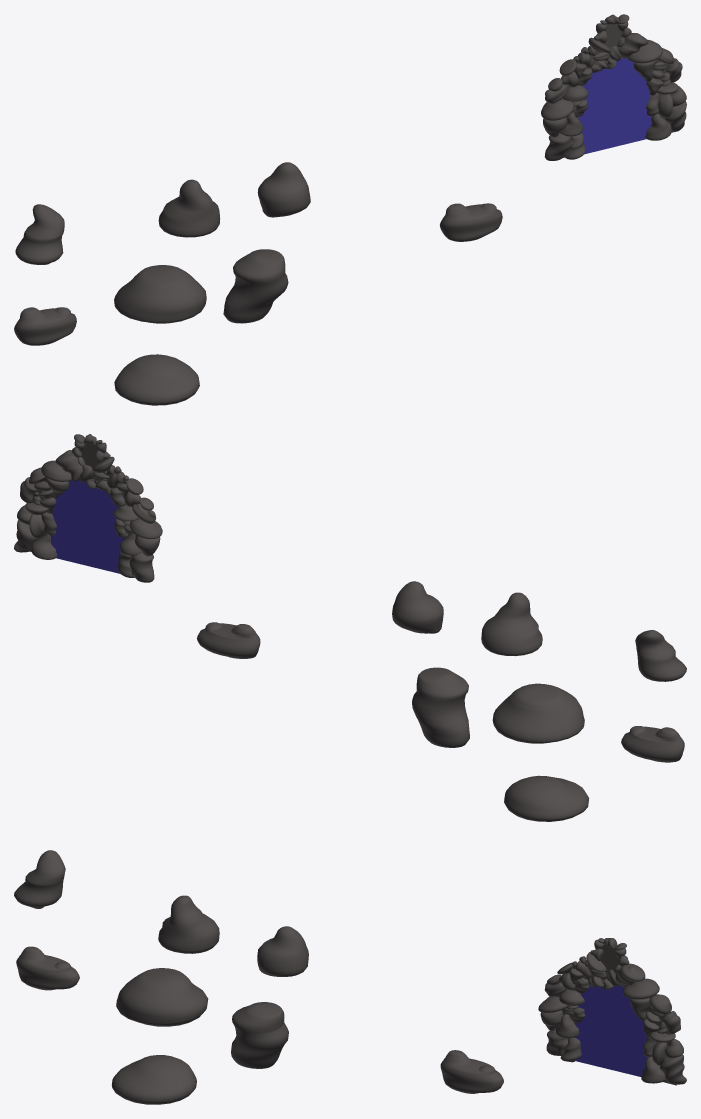
Rendered from Porta de Pedras.fbx.
The picture shows the model from 3 angles, top to bottom: view 1: azimuth 30°, elevation 25°; view 2: azimuth 150°, elevation 25°; view 3: azimuth 330°, elevation 25°; orthographic projection.
Parts seen in each view (by area): view 1: Porta, Pedra_9, pSphere4 (×2), Pedra_8, Pedra_13, Pedra_11, Pedra_10, Pedra_12; view 2: Porta, Pedra_9, Pedra_8, pSphere4 (×2), Pedra_13, Pedra_11, Pedra_10, Pedra_12, Pedra_1; view 3: Porta, Pedra_9, Pedra_13 (×2), pSphere4 (×2), Pedra_8, Pedra_12 (×3), Pedra_11 (×2), Pedra_10, Porta1, Pedra_4.
Boxes of the visible parts, bbox=[...] form: Porta: bbox=[578, 58, 651, 154]; Pedra_9: bbox=[114, 265, 206, 323]; pSphere4 (×2): bbox=[14, 203, 502, 345]; Pedra_8: bbox=[223, 249, 288, 323]; Pedra_13: bbox=[114, 354, 199, 405]; Pedra_11: bbox=[158, 179, 220, 237]; Pedra_10: bbox=[257, 162, 310, 217]; Pedra_12: bbox=[15, 204, 64, 264]; Porta: bbox=[51, 478, 124, 573]; Pedra_9: bbox=[492, 683, 584, 743]; Pedra_8: bbox=[412, 667, 469, 747]; pSphere4 (×2): bbox=[197, 623, 684, 762]; Pedra_13: bbox=[504, 775, 589, 821]; Pedra_11: bbox=[481, 592, 542, 656]; Pedra_10: bbox=[392, 581, 443, 633]; Pedra_12: bbox=[635, 630, 686, 681]; Pedra_1: bbox=[129, 552, 154, 582]; Porta: bbox=[576, 984, 647, 1076]; Pedra_9: bbox=[116, 968, 208, 1026]; Pedra_13 (×2): bbox=[111, 978, 659, 1104]; pSphere4 (×2): bbox=[16, 946, 503, 1093]; Pedra_8: bbox=[231, 1002, 288, 1068]; Pedra_12 (×3): bbox=[14, 850, 686, 1084]; Pedra_11 (×2): bbox=[158, 895, 665, 1083]; Pedra_10: bbox=[257, 926, 308, 976]; Porta1: bbox=[550, 942, 676, 1085]; Pedra_4: bbox=[556, 1014, 579, 1038].
Size of the model in its own units: 16.36 by 6.21 by 1.99.
